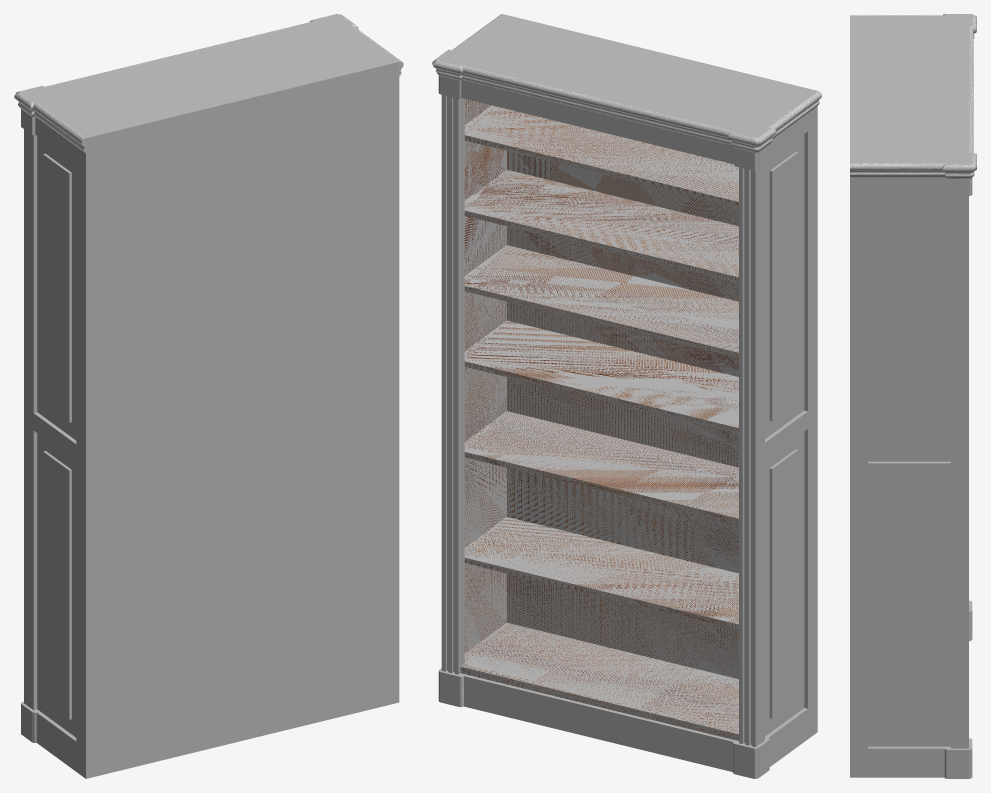
3 renders of one model, left to right at view 1: azimuth 30°, elevation 25°; view 2: azimuth 150°, elevation 25°; view 3: azimuth 270°, elevation 25°, orthographic. The views are drawn at different scales.
Parts seen in each view (by area): view 1: mesh1_mesh1-geometry; view 2: mesh1_mesh1-geometry; view 3: mesh1_mesh1-geometry.
Part boxes in pixels (x1,y1,x2,y2): mesh1_mesh1-geometry: (14, 14, 403, 778); mesh1_mesh1-geometry: (432, 14, 821, 778); mesh1_mesh1-geometry: (850, 14, 976, 778).
Bounding box in the file's own units: 0.4658 × 0.8698 × 0.1628.
